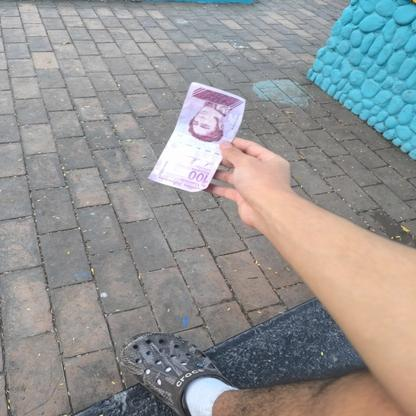one_hundred-front-vef: (148, 81, 246, 192)
